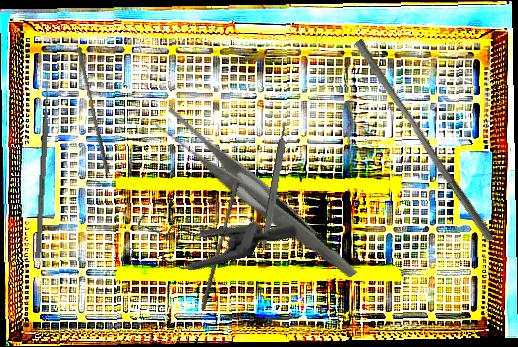Dressing Forceps: (152, 70, 358, 323)
Pusher: (346, 38, 503, 243), (72, 47, 115, 174), (200, 179, 240, 313), (35, 73, 51, 259)
Scalpel Handle: (259, 121, 291, 254)
Speculum: (110, 144, 301, 326)
